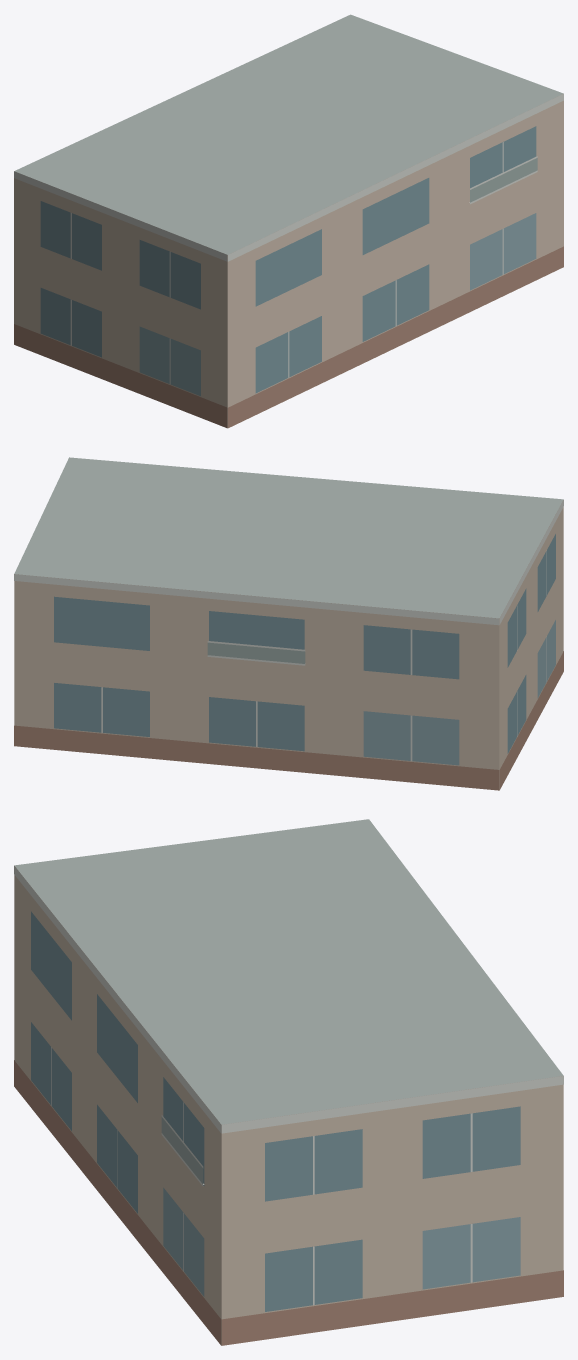
The model's file is survey-upis-32557775.glb.
The picture shows the model from 3 angles, top to bottom: view 1: azimuth 30°, elevation 25°; view 2: azimuth 150°, elevation 25°; view 3: azimuth 270°, elevation 25°; orthographic projection. The views are drawn at different scales.
Visible parts, largest first — view 1: survey-upis-32557775.tmp; view 2: survey-upis-32557775.tmp; view 3: survey-upis-32557775.tmp.
Part boxes in pixels (left/top/right/bottom): survey-upis-32557775.tmp: left=14, top=14, right=563, bottom=428; survey-upis-32557775.tmp: left=14, top=457, right=563, bottom=790; survey-upis-32557775.tmp: left=14, top=819, right=563, bottom=1345.
Bounding box in the file's own units: 18.11 × 6.1 × 13.76.
